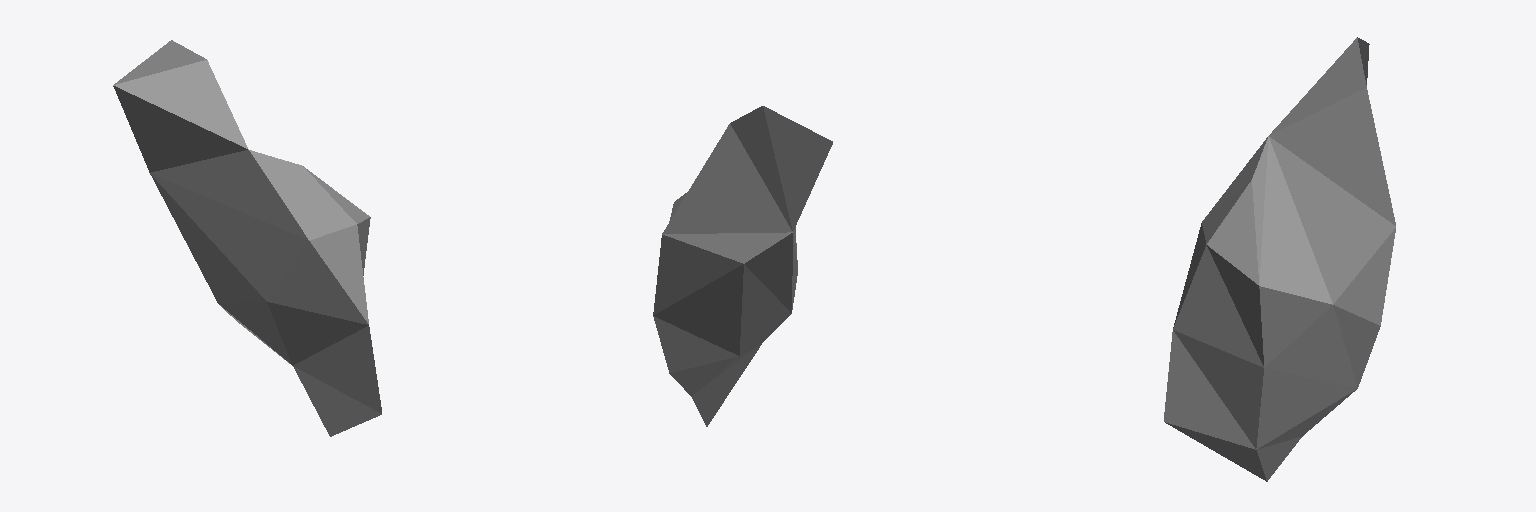
The model's file is Model_713_RH__Motor_root_of_the_trigeminal_nerve_(m5).obj.
3 renders of one model, left to right at view 1: azimuth 30°, elevation 25°; view 2: azimuth 150°, elevation 25°; view 3: azimuth 270°, elevation 25°, orthographic.
Bounding box in the file's own units: 0.1694 × 0.2994 × 0.1638.